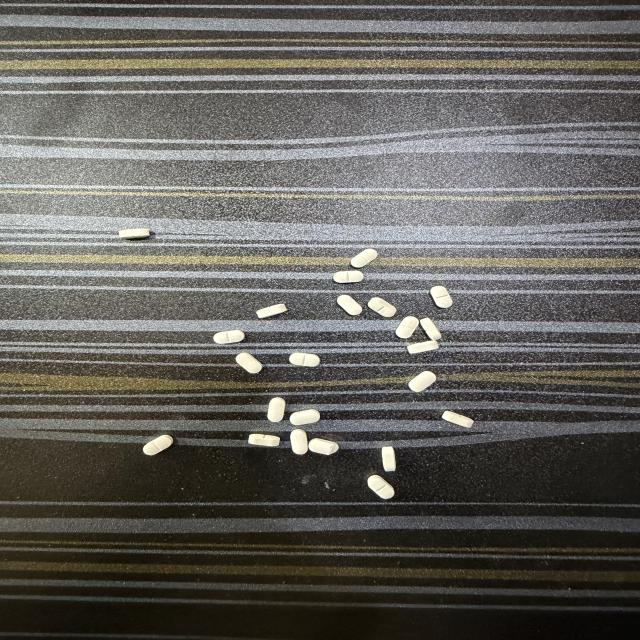pill: (368, 475, 394, 499), (143, 435, 173, 455), (409, 371, 436, 392), (368, 297, 396, 317), (236, 353, 262, 373), (442, 411, 474, 427), (396, 316, 419, 338), (337, 295, 362, 315), (351, 249, 377, 268), (430, 286, 452, 308), (309, 439, 339, 455), (420, 318, 441, 340), (290, 410, 320, 425), (290, 429, 308, 454), (256, 304, 287, 318), (268, 397, 285, 422), (214, 330, 244, 344), (289, 353, 320, 366), (407, 340, 438, 353), (381, 446, 396, 472), (249, 434, 280, 446), (333, 271, 363, 283), (119, 229, 150, 239)
